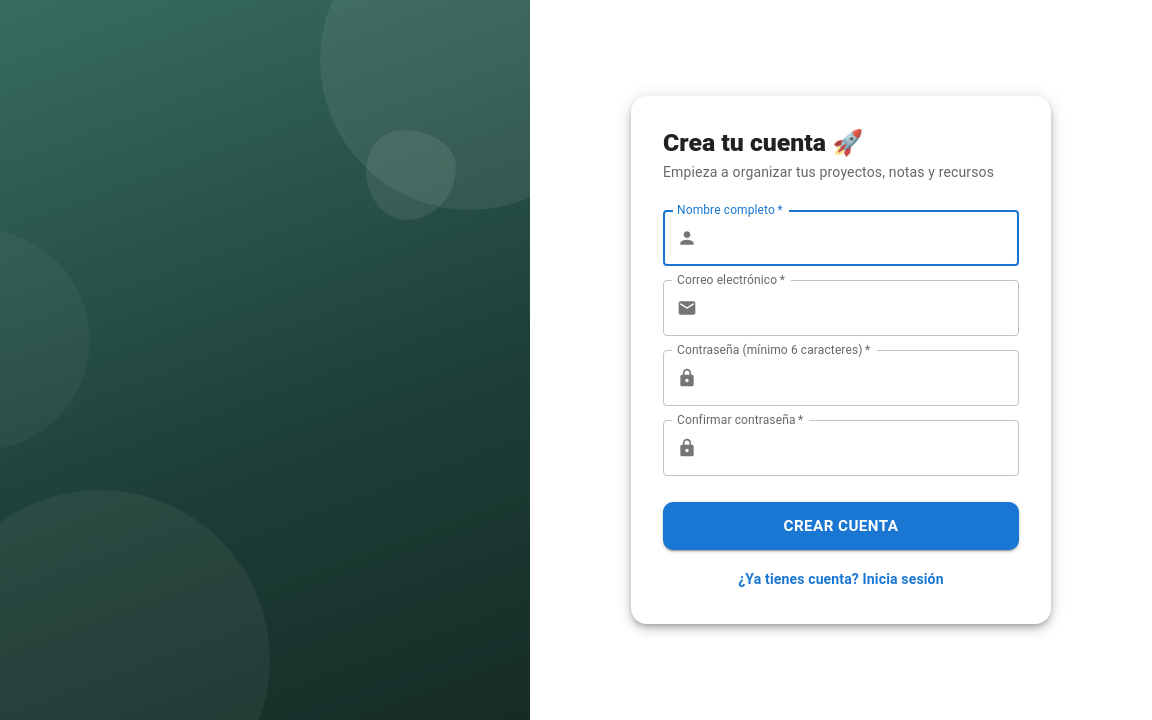
Test: Register › muestra el error del servidor si el registro falla
Type "Ana" into the field labelled "Nombre completo *" at point(862, 238), box x1=705 y1=210 x2=1019 y2=266
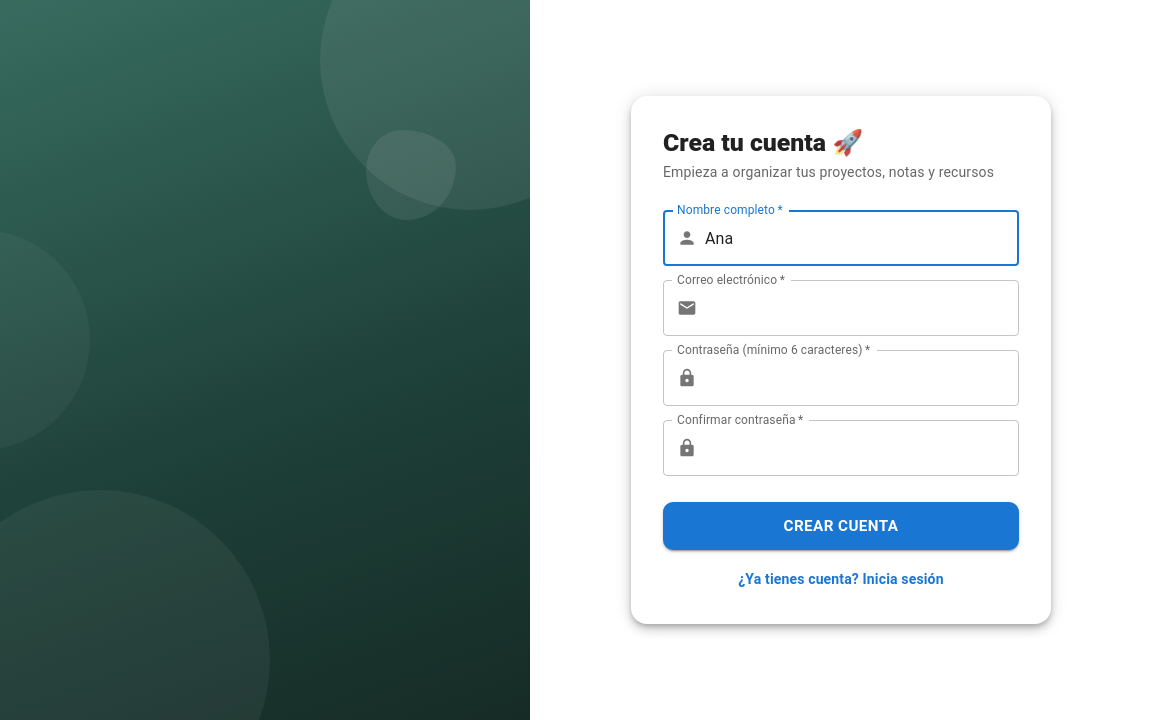
Type "ana@test.com" into the field labelled "Correo electrónico *" at point(862, 308), box x1=705 y1=280 x2=1019 y2=336
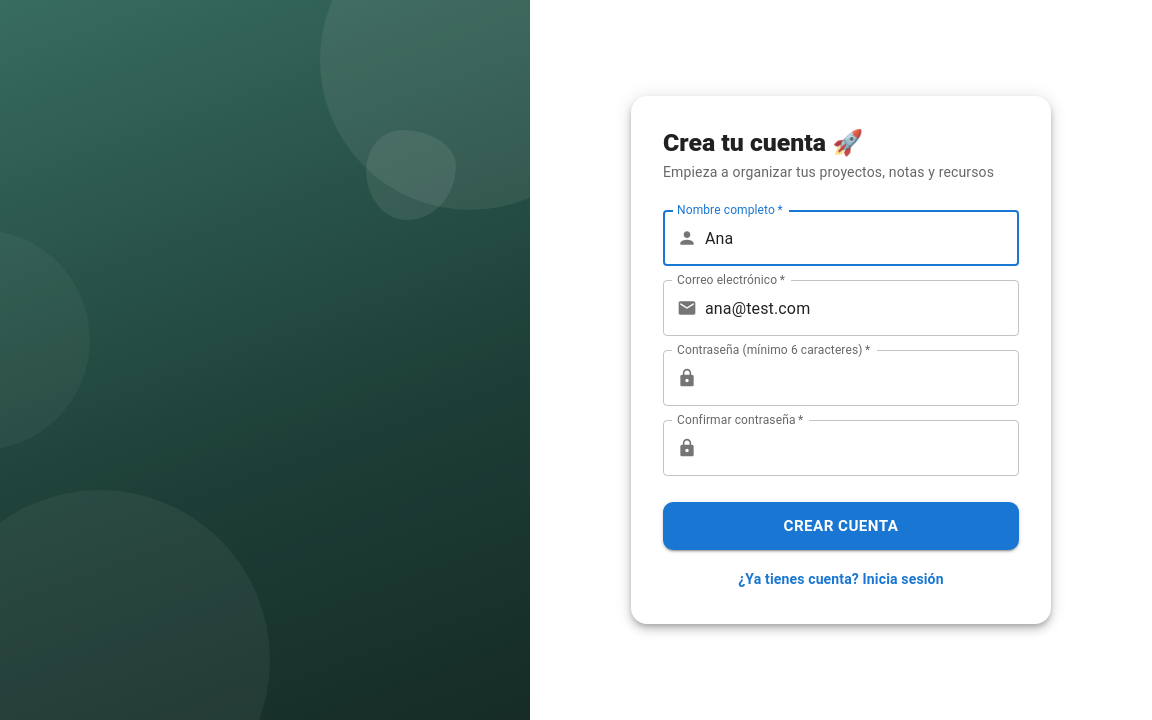
Type "secret123" into the password field labelled "Contraseña (mínimo 6 caracteres) *" at point(862, 378), box x1=705 y1=350 x2=1019 y2=406
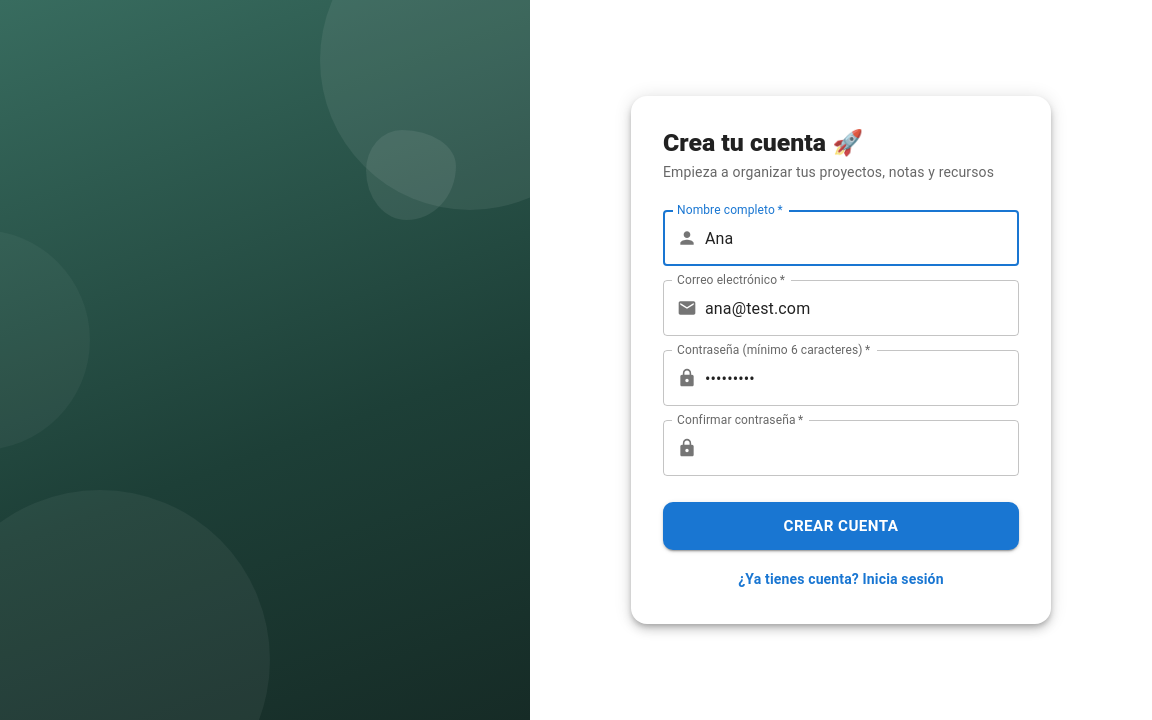
Type "secret123" into the password field labelled "Confirmar contraseña *" at point(862, 448), box x1=705 y1=420 x2=1019 y2=476
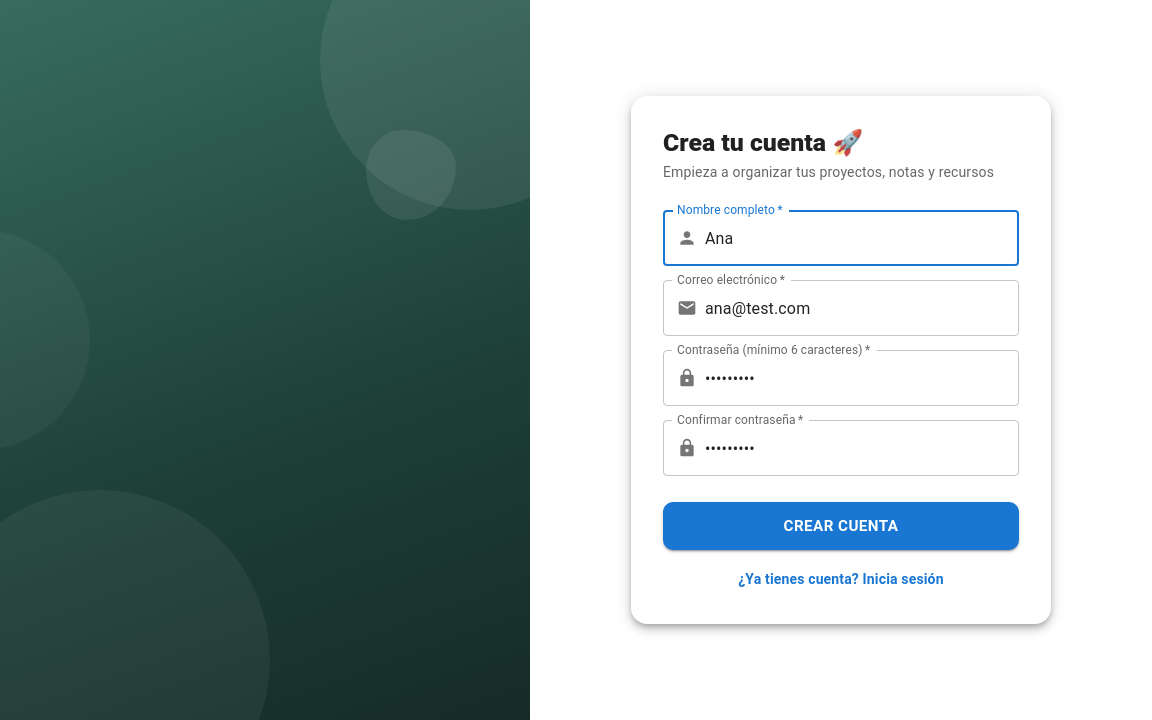
Click the button "Crear cuenta" at point(841, 526), box x1=663 y1=502 x2=1019 y2=550
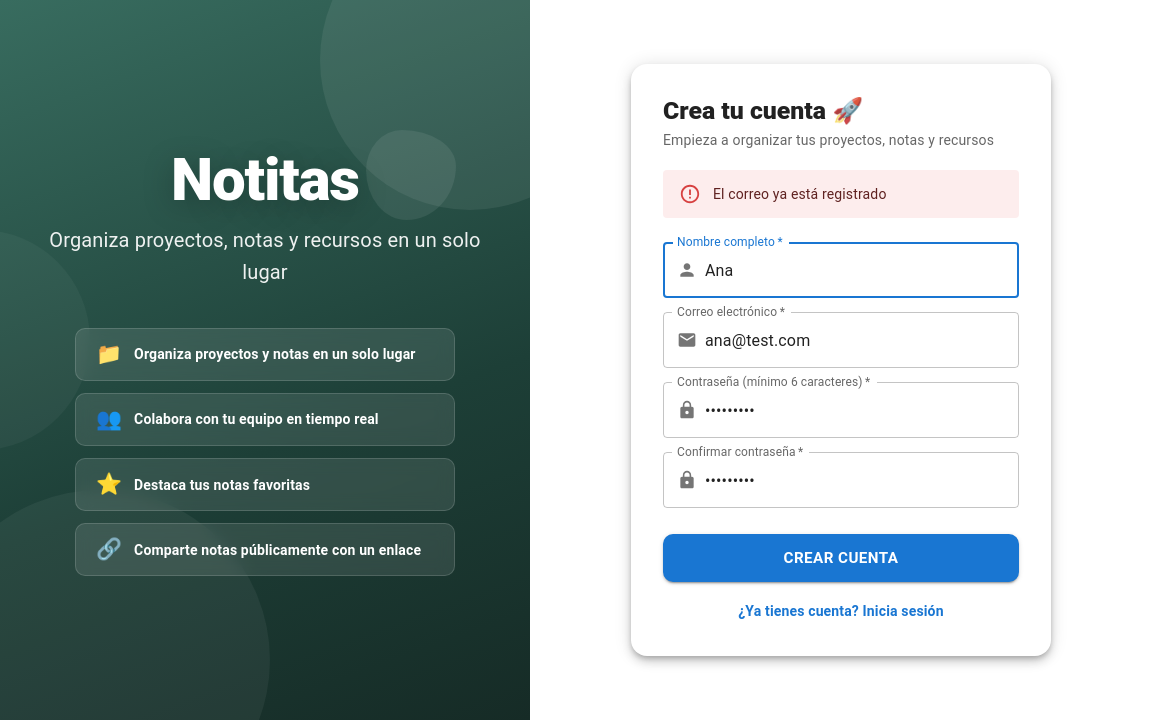
Check: the text "El correo ya está registrado" is shown, box x1=713 y1=186 x2=887 y2=202
